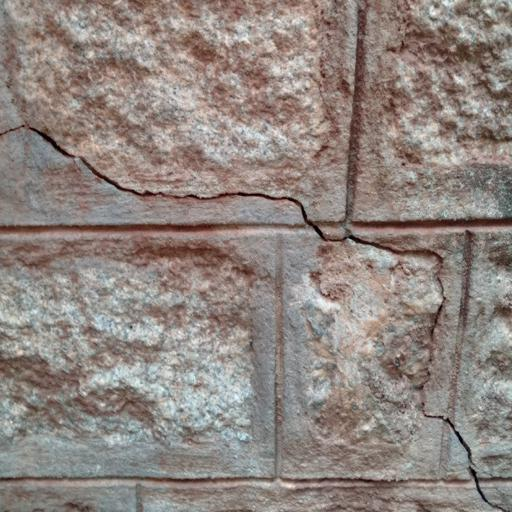major_crack: (0, 104, 506, 512)
